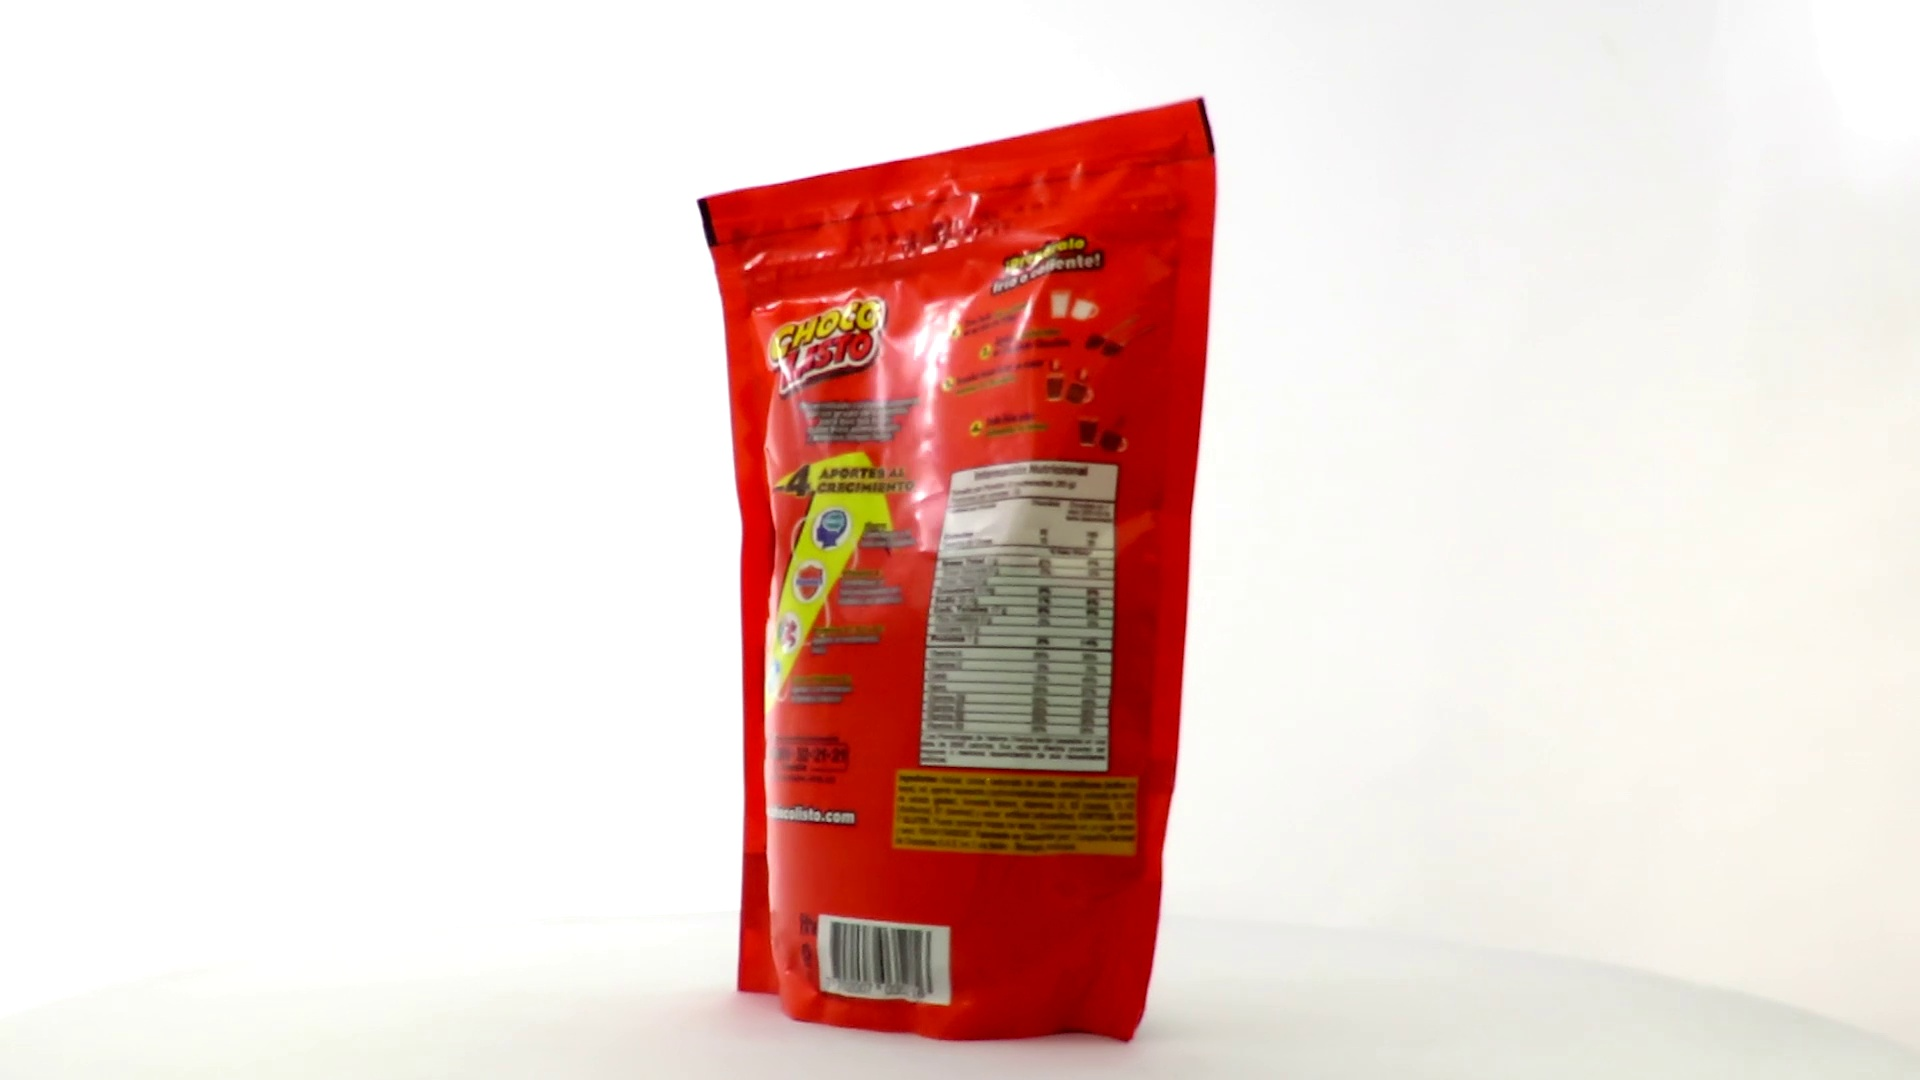COL0170103DYP36000: (692, 92, 1222, 1048)
